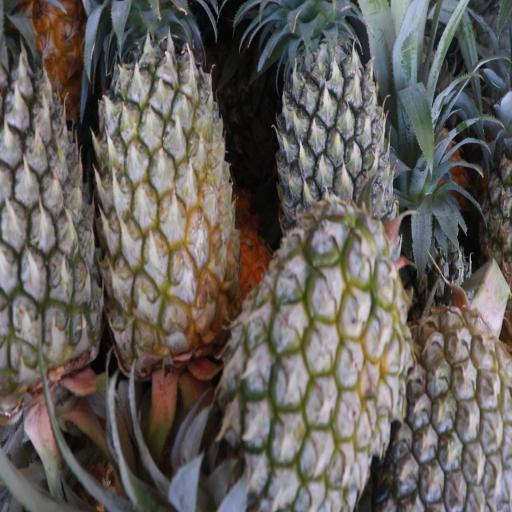------------------------------: (98, 0, 233, 367), (233, 221, 405, 504)
